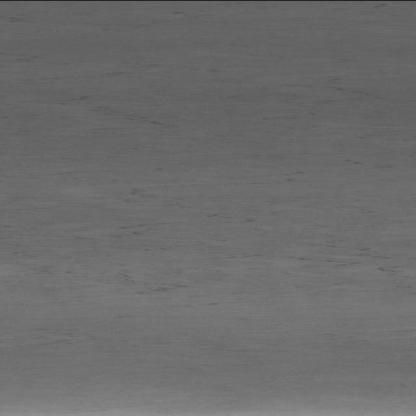silk_spot: (36, 76, 370, 314)
